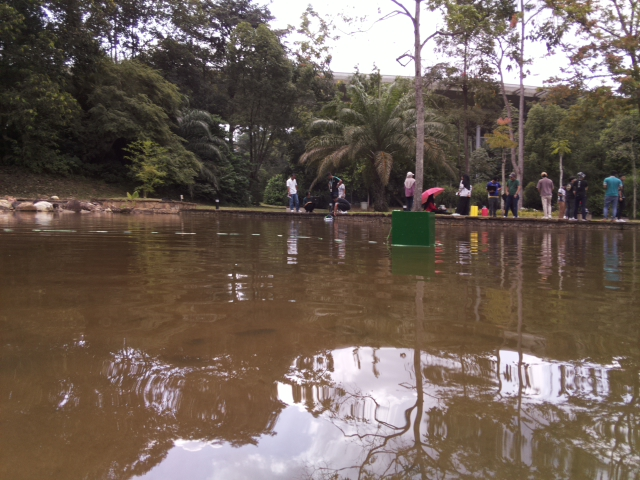obstacle: (390, 210, 436, 247)
